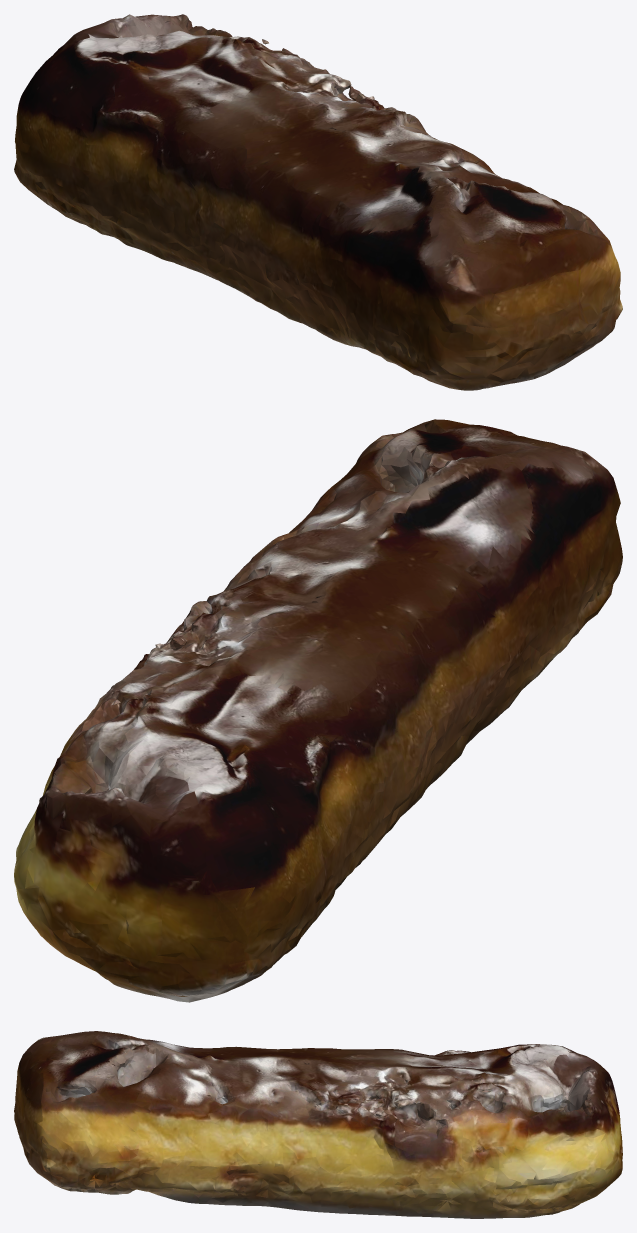
Rendered from 3DModel_LowPoly.obj.
3 views of the same model, one above another, from view 1: azimuth 30°, elevation 25°; view 2: azimuth 150°, elevation 25°; view 3: azimuth 270°, elevation 25° (orthographic). The views are drawn at different scales.
Parts seen in each view (by area): view 1: 3DModel_LowPoly; view 2: 3DModel_LowPoly; view 3: 3DModel_LowPoly.
Part boxes in pixels (<box>): 3DModel_LowPoly: <box>14,14,622,390</box>; 3DModel_LowPoly: <box>14,419,622,1002</box>; 3DModel_LowPoly: <box>14,1031,622,1218</box>.
Bounding box in the file's own units: 0.723 × 0.5431 × 1.88.
1 material, 1 textured.
